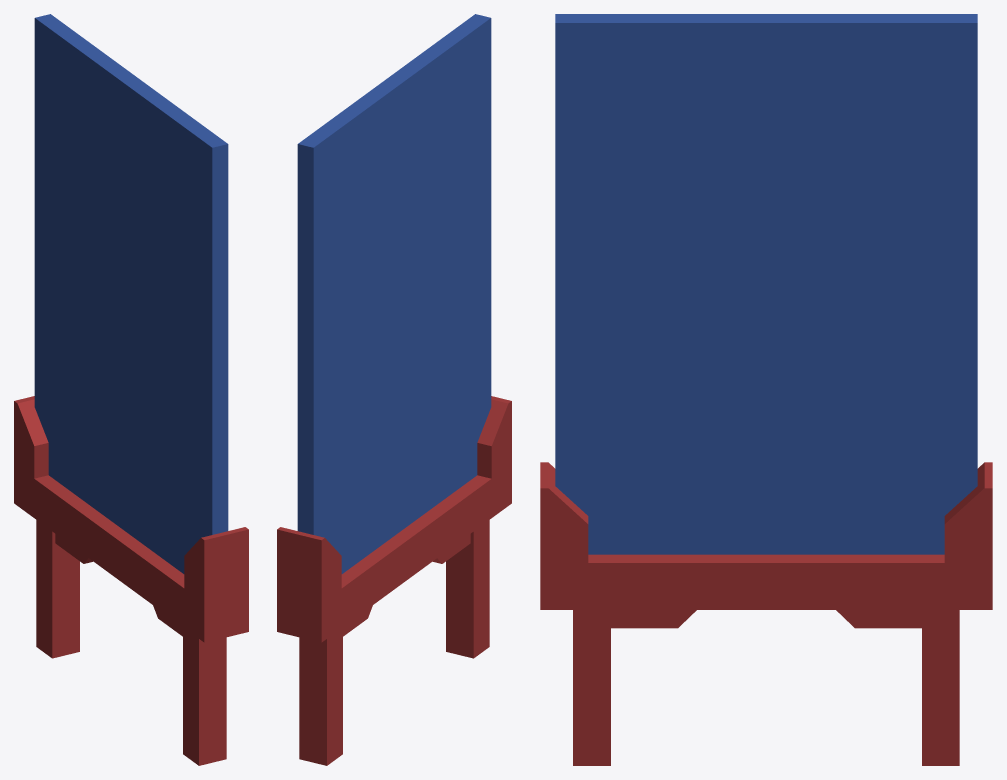
Rendered from SM_Screen_01.fbx.
The picture shows the model from 3 angles, left to right: view 1: azimuth 30°, elevation 25°; view 2: azimuth 150°, elevation 25°; view 3: azimuth 270°, elevation 25°; orthographic projection. The views are drawn at different scales.
Parts seen in each view (by area): view 1: SM_Screen_01; view 2: SM_Screen_01; view 3: SM_Screen_01.
Part boxes in pixels (x1,y1,x2,y2): SM_Screen_01: (14,14,248,765); SM_Screen_01: (277,14,511,765); SM_Screen_01: (540,14,992,765).
Size of the model in its own units: 21.55 by 288 by 160.
